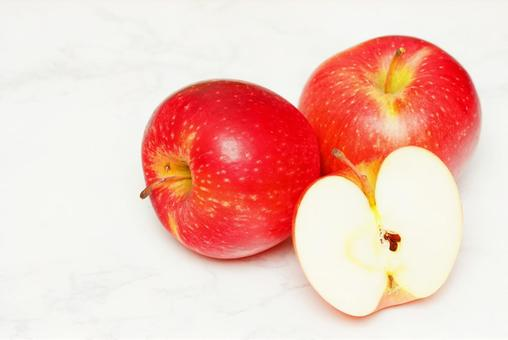apple: (130, 78, 321, 258), (294, 34, 483, 210), (293, 146, 469, 326)
